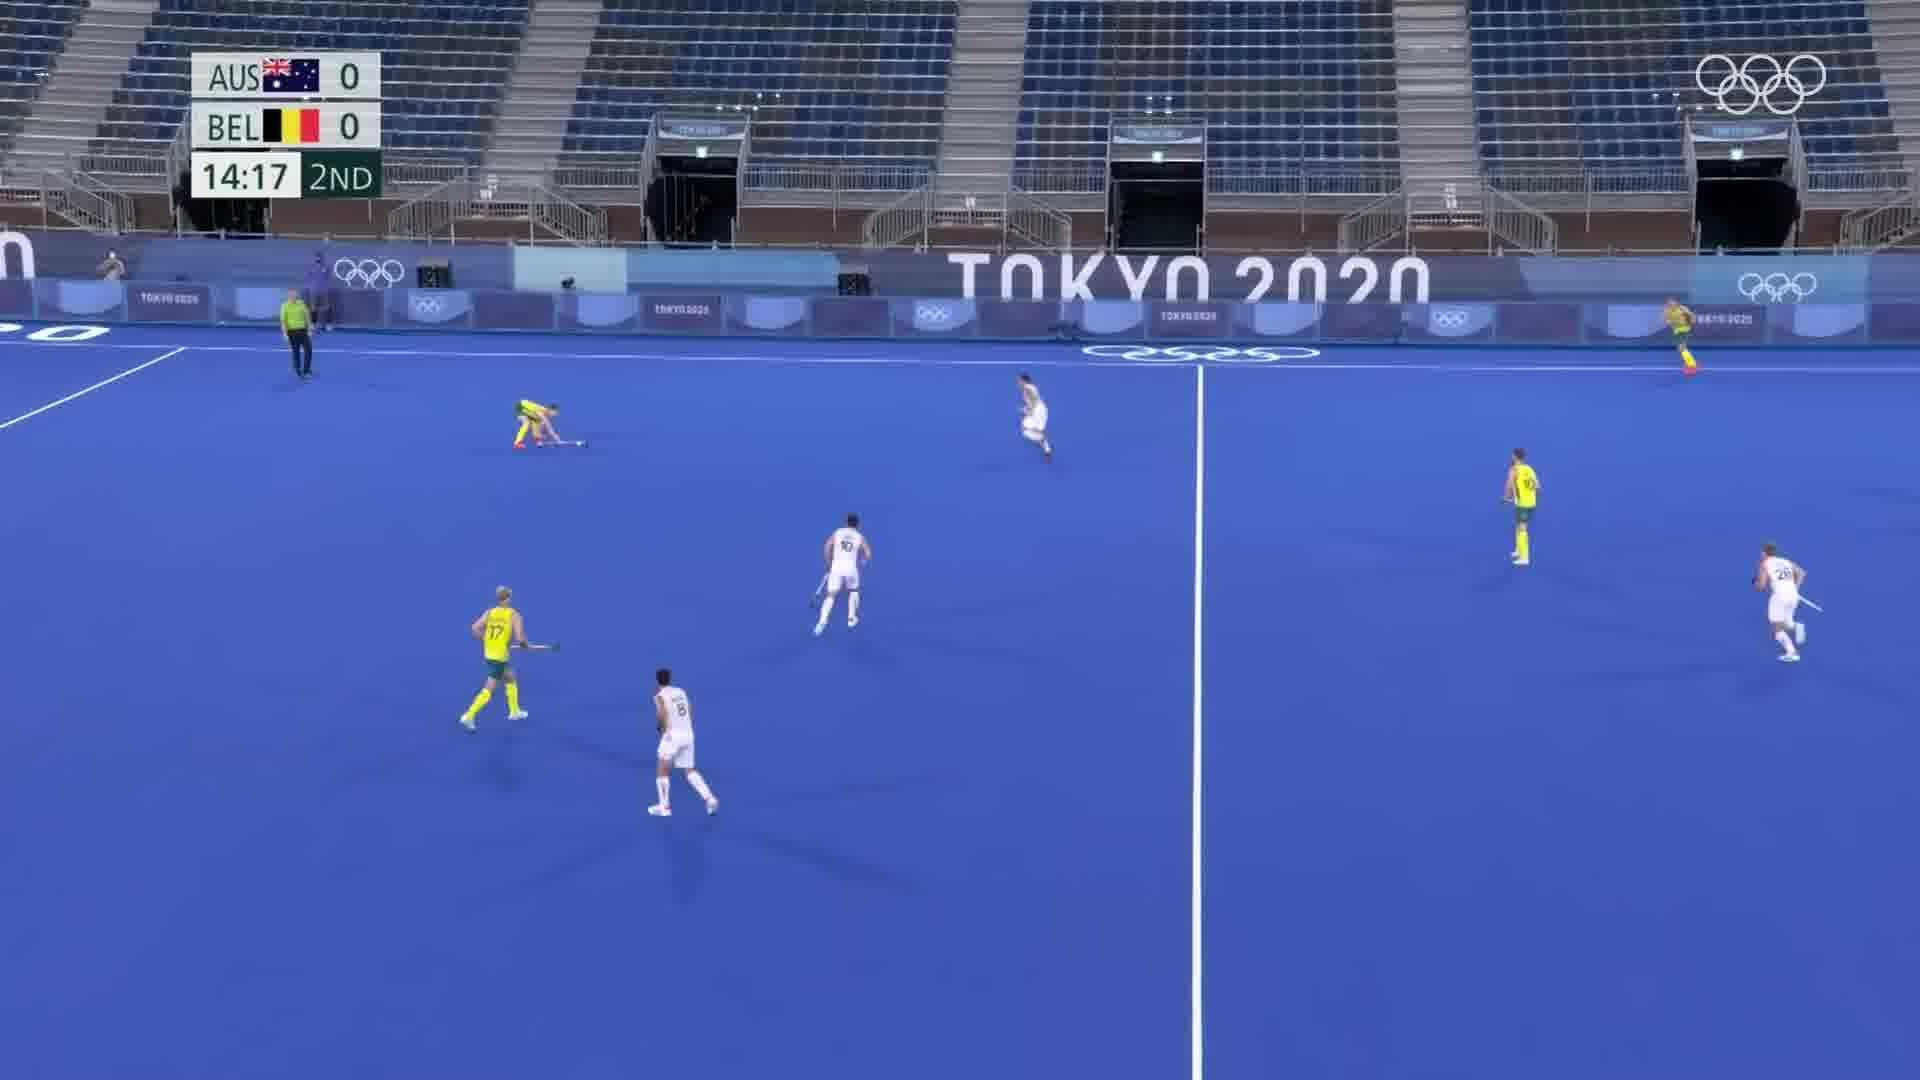ball: (572, 436, 587, 452)
